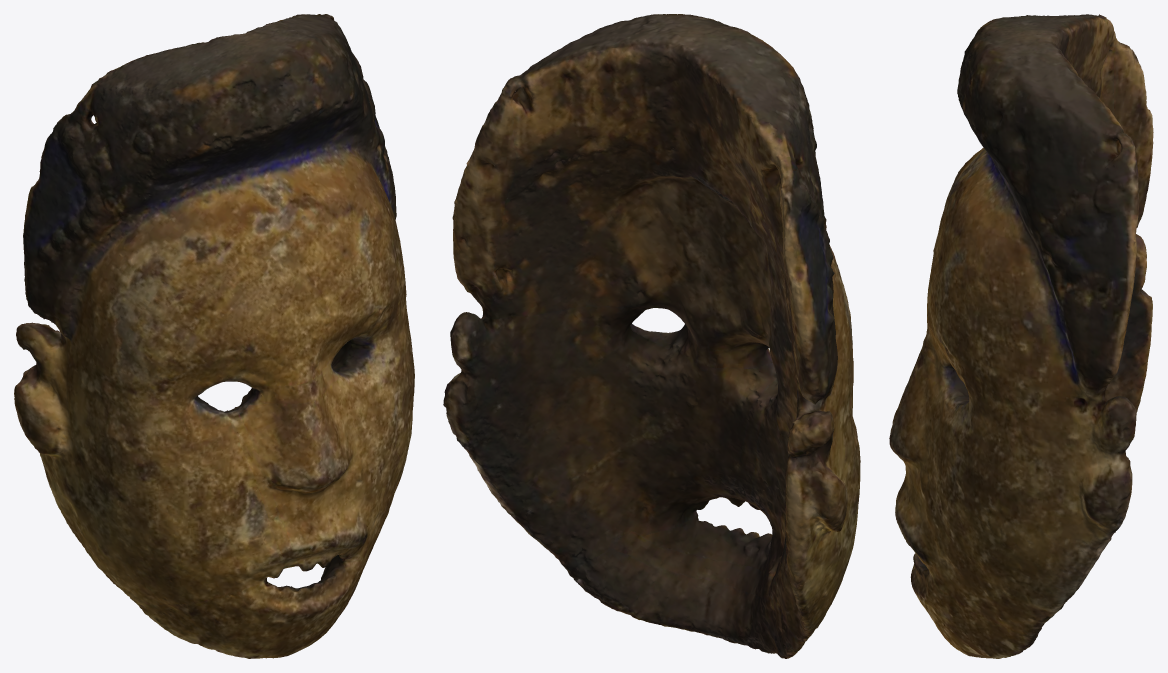
File: preview.glb
3 renders of one model, left to right at view 1: azimuth 30°, elevation 25°; view 2: azimuth 150°, elevation 25°; view 3: azimuth 270°, elevation 25°, orthographic. The views are drawn at different scales.
Visible parts, largest first — view 1: Object_2; view 2: Object_2; view 3: Object_2.
Boxes of the visible parts, x1=… form: Object_2: x1=14, y1=14, x2=414, y2=658; Object_2: x1=443, y1=14, x2=860, y2=658; Object_2: x1=889, y1=14, x2=1153, y2=658.
Size of the model in its own units: 32.94 by 49.64 by 19.56.
Materials: 1 (1 with a texture image).
